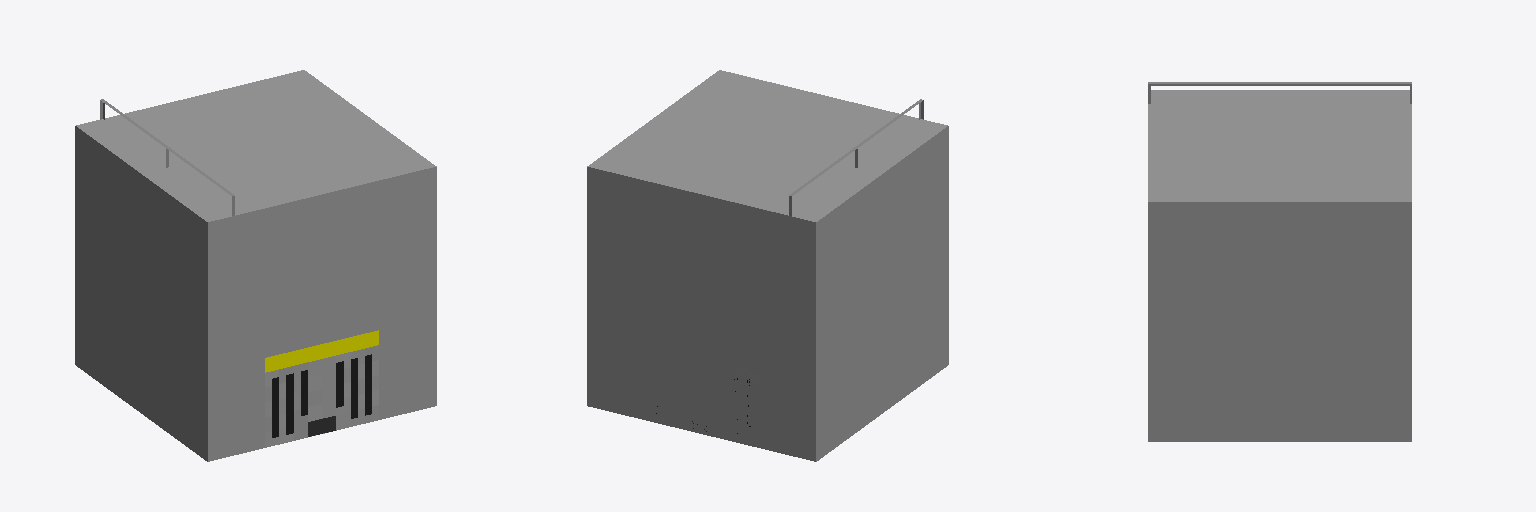
3 views of the same model, side by side, from view 1: azimuth 30°, elevation 25°; view 2: azimuth 150°, elevation 25°; view 3: azimuth 270°, elevation 25° (orthographic).
Parts seen in each view (by area): view 1: Minecraft_Block_Cube, Case; view 2: Minecraft_Block_Cube; view 3: Minecraft_Block_Cube, Case.
Part boxes in pixels (bbox=[...]): Minecraft_Block_Cube: bbox=[75, 70, 436, 461]; Case: bbox=[103, 103, 378, 447]; Minecraft_Block_Cube: bbox=[587, 70, 948, 461]; Minecraft_Block_Cube: bbox=[1148, 90, 1411, 441]; Case: bbox=[1148, 84, 1411, 103].
Size of the model in its own units: 1 by 1.08 by 1.
5 materials, 2 textured.